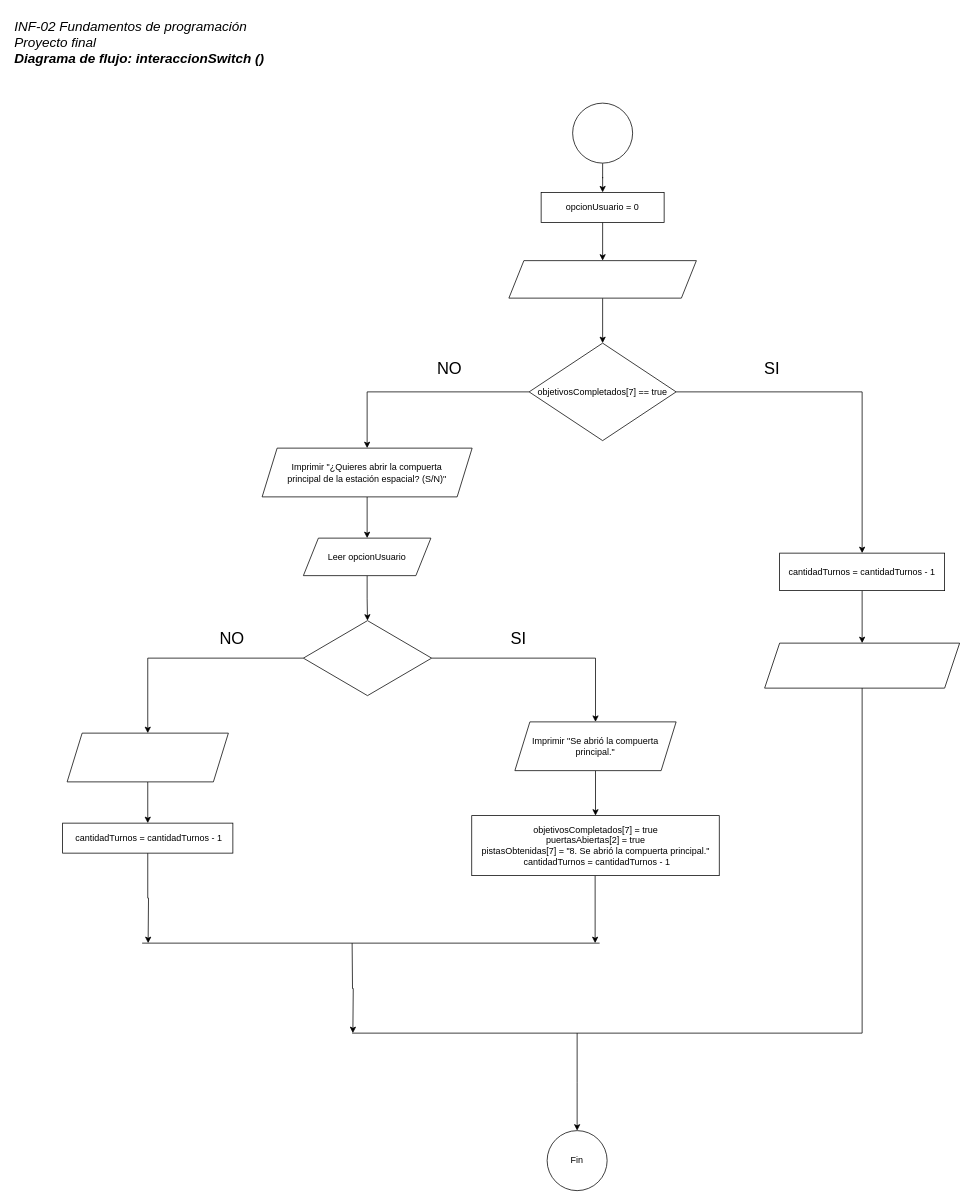
This 973x1204 diagram has some shape labels left out. Here are the shapes that lost their labels. From the top down, the box of each, then its label:
(572, 102, 633, 163): Inicio
(508, 260, 696, 298): Imprimir "Interruptor puerta principal"
(303, 620, 432, 696): opcionUsuario == "s"
(764, 642, 960, 688): Imprimir "Ya completaste esta interacción, perdiste un turno."
(66, 732, 228, 782): Imprimir "Decidiste no abrir la compuerta principal . "
